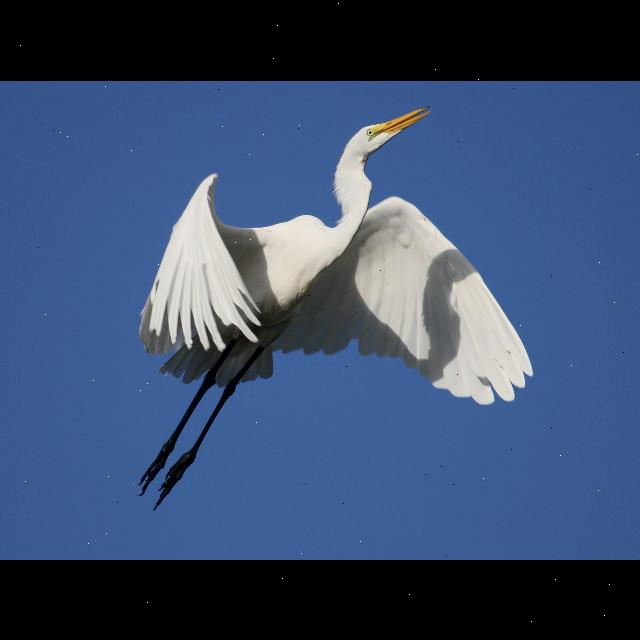egret: (118, 97, 544, 509)
